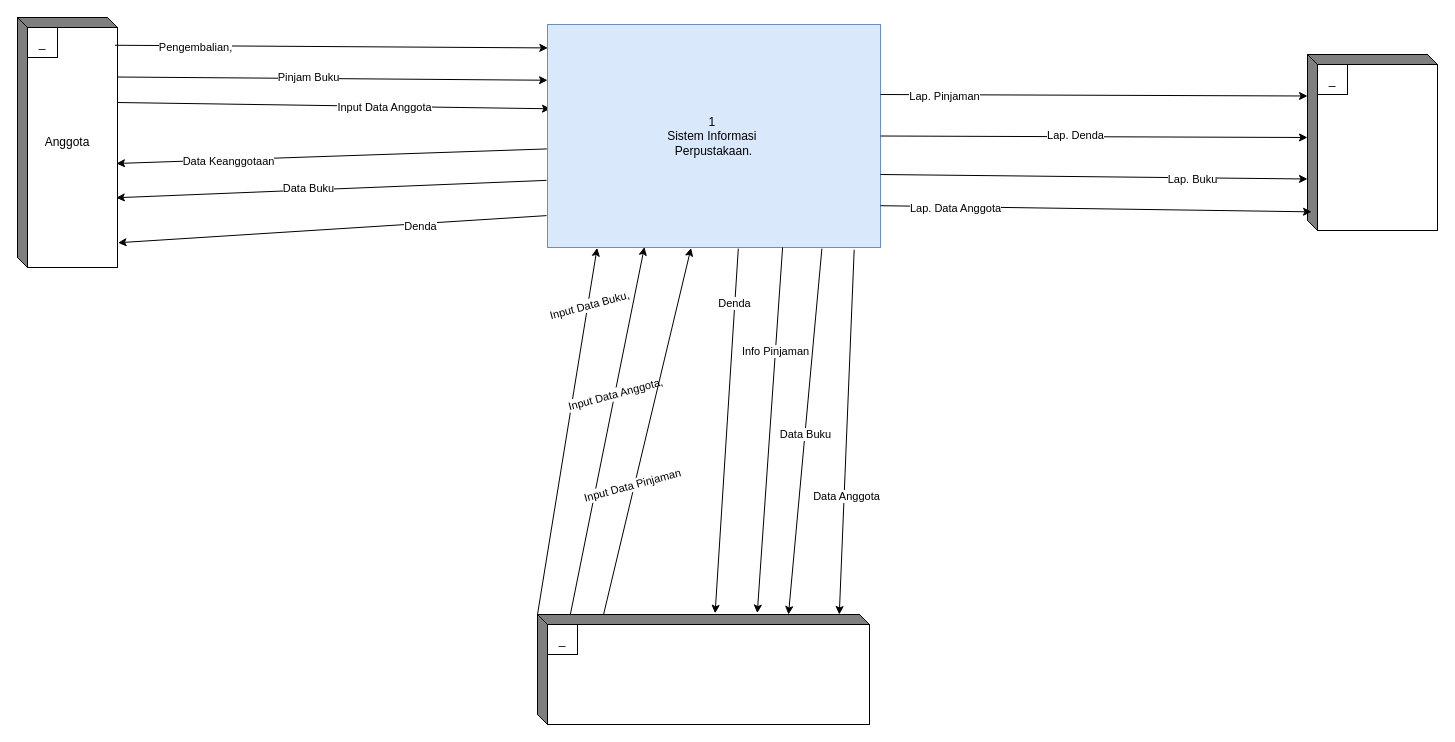
Some shapes in this 1455 by 742 pixel diagram are drawn without their labels. The centre of each missing label's shape, as x and y in pixels:
"Kepala Perpus" belongs at point 1372,142.
"Petugas" belongs at point 703,669.
